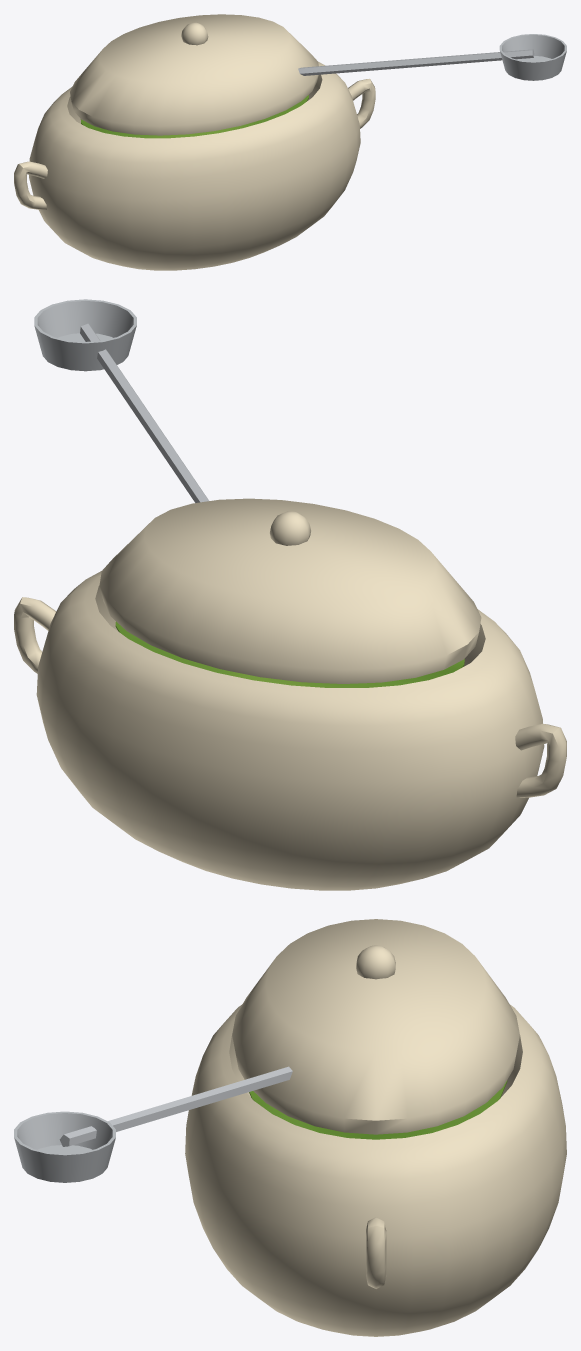
File: tray_soup_tureen_ladle.glb
3 renders of one model, top to bottom at view 1: azimuth 30°, elevation 25°; view 2: azimuth 150°, elevation 25°; view 3: azimuth 270°, elevation 25°, orthographic. The views are drawn at different scales.
Visible parts, largest first — view 1: tray_soup_tureen_ladle; view 2: tray_soup_tureen_ladle; view 3: tray_soup_tureen_ladle.
Part boxes in pixels (x1,y1,x2,y2): tray_soup_tureen_ladle: [14, 14, 566, 270]; tray_soup_tureen_ladle: [14, 299, 566, 890]; tray_soup_tureen_ladle: [14, 919, 566, 1336].
Bounding box in the file's own units: 0.4532 × 0.2142 × 0.32.
Materials: 3 (1 with a texture image).
